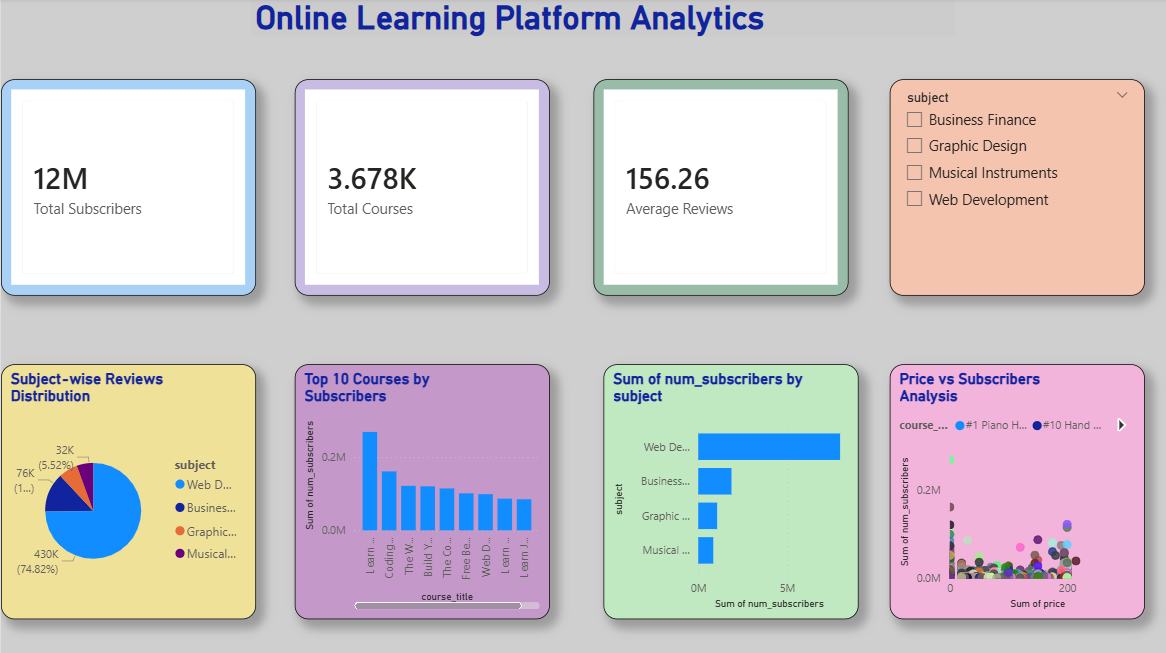

What the dashboard file says about the page in this screenshot:
{"tool":"powerbi","page":{"name":"Page 1","canvas":[1280,720],"ordinal":0},"visuals":[{"type":"cardVisual","fields":{"Data":["Sum(udemy_courses.num_subscribers)"]},"box":[0,89.2,279.9,237.4],"z":0},{"type":"cardVisual","fields":{"Data":["CountNonNull(udemy_courses.course_id)"]},"box":[322.5,89.2,279.9,237.4],"z":1000},{"type":"cardVisual","fields":{"Data":["Avg(udemy_courses.num_reviews)"]},"box":[650.4,89.2,279.9,237.4],"z":2000},{"type":"clusteredBarChart","fields":{"Category":["udemy_courses.subject"],"Y":["Sum(udemy_courses.num_subscribers)"]},"box":[661.4,402.1,279.9,279.9],"z":3000},{"type":"clusteredColumnChart","title":"Top 10 Courses by Subscribers","fields":{"Category":["udemy_courses.course_title"],"Y":["Sum(udemy_courses.num_subscribers)"]},"box":[322.5,402.1,279.9,279.9],"z":4000},{"type":"scatterChart","title":"Price vs Subscribers Analysis","fields":{"X":["Sum(udemy_courses.price)"],"Y":["Sum(udemy_courses.num_subscribers)"],"Series":["udemy_courses.course_title"]},"box":[975.6,402.1,279.9,279.9],"z":5000},{"type":"pieChart","title":"Subject-wise Reviews Distribution","fields":{"Category":["udemy_courses.subject"],"Y":["Sum(udemy_courses.num_reviews)"]},"box":[0,402.1,279.9,279.9],"z":6000},{"type":"slicer","fields":{"Values":["udemy_courses.subject"]},"box":[975.6,89.2,279.9,237.4],"z":7000},{"type":"textbox","title":"Online Learning Platform Analytics Dashboard","box":[274.4,0,773.9,42.5],"z":7001}]}

Visuals, with their boxes in screenshot pixels (x1, y1, x2, y2), scaled from the page's 1280x720 canvas onto the 1166x653 screenshot:
cardVisual - Sum(udemy_courses.num_subscribers): bbox=(0, 81, 255, 296)
cardVisual - CountNonNull(udemy_courses.course_id): bbox=(294, 81, 549, 296)
cardVisual - Avg(udemy_courses.num_reviews): bbox=(592, 81, 847, 296)
clusteredBarChart - udemy_courses.subject x Sum(udemy_courses.num_subscribers): bbox=(602, 365, 857, 619)
"Top 10 Courses by Subscribers" clusteredColumnChart: bbox=(294, 365, 549, 619)
"Price vs Subscribers Analysis" scatterChart: bbox=(889, 365, 1144, 619)
"Subject-wise Reviews Distribution" pieChart: bbox=(0, 365, 255, 619)
slicer - udemy_courses.subject: bbox=(889, 81, 1144, 296)
"Online Learning Platform Analytics Dashboard" textbox: bbox=(250, 0, 955, 39)
